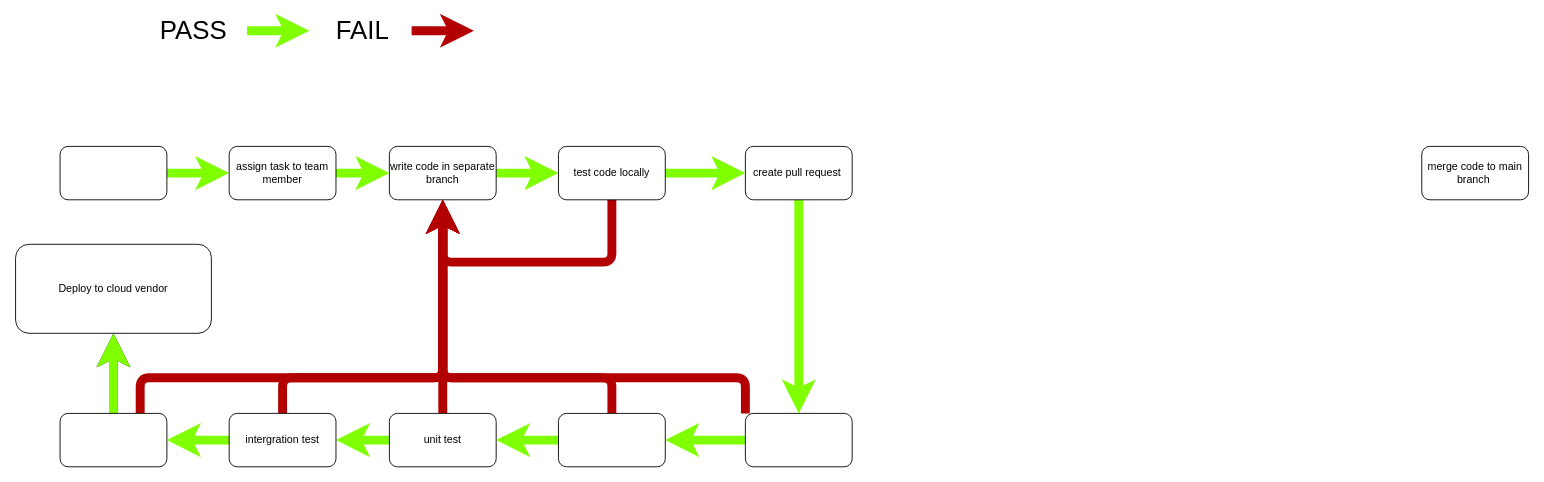
Image size: 1544x482. Some labels were removed from this diagram. The centre of each missing label's shape, as x and y in pixels:
"approval from two member" goes at point (113, 440).
"code quality test" goes at point (611, 440).
"HTML/CSS/JS linter test" goes at point (798, 440).
"new feature/function introduced" goes at point (113, 173).
